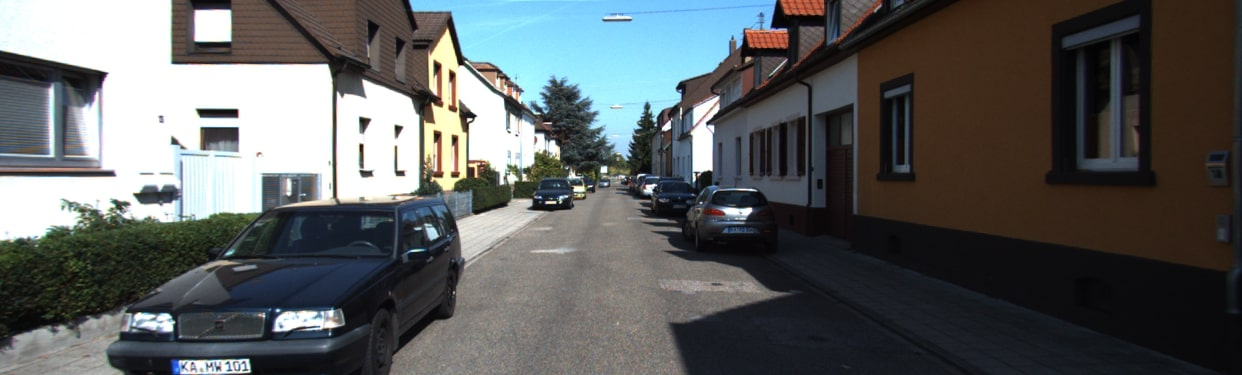car: (105, 189, 457, 375), (685, 185, 773, 248), (530, 176, 576, 211), (656, 178, 687, 219), (642, 166, 657, 195), (573, 178, 593, 198)
